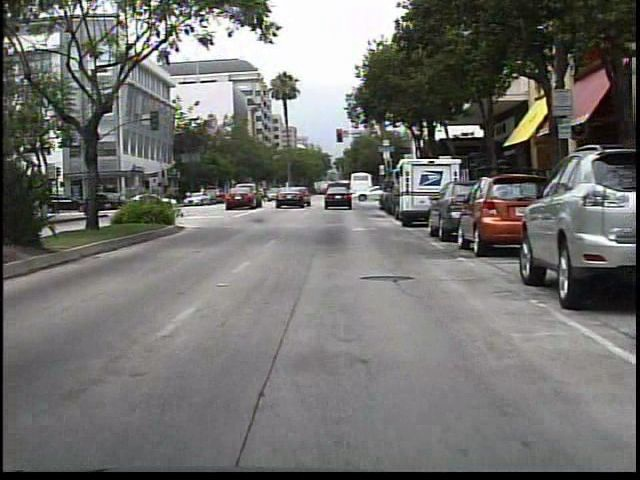person: (273, 182, 287, 206)
